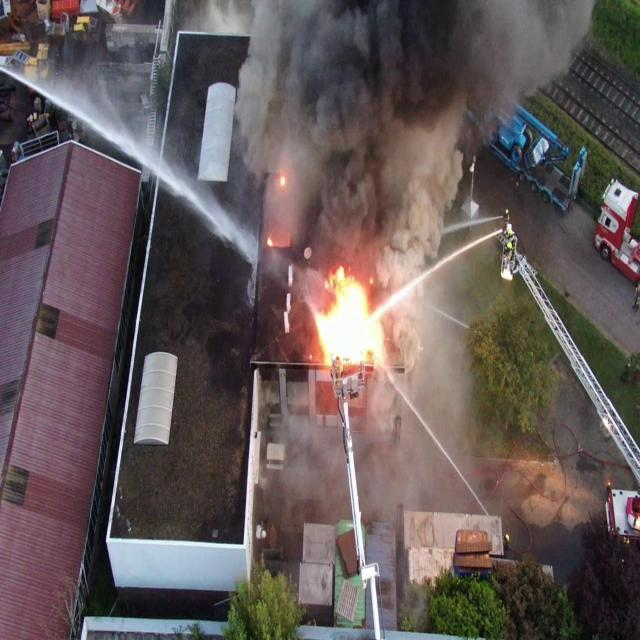Fire: (314, 266, 385, 370), (267, 236, 273, 246), (280, 176, 285, 185)
Smoke: (182, 0, 595, 525)
